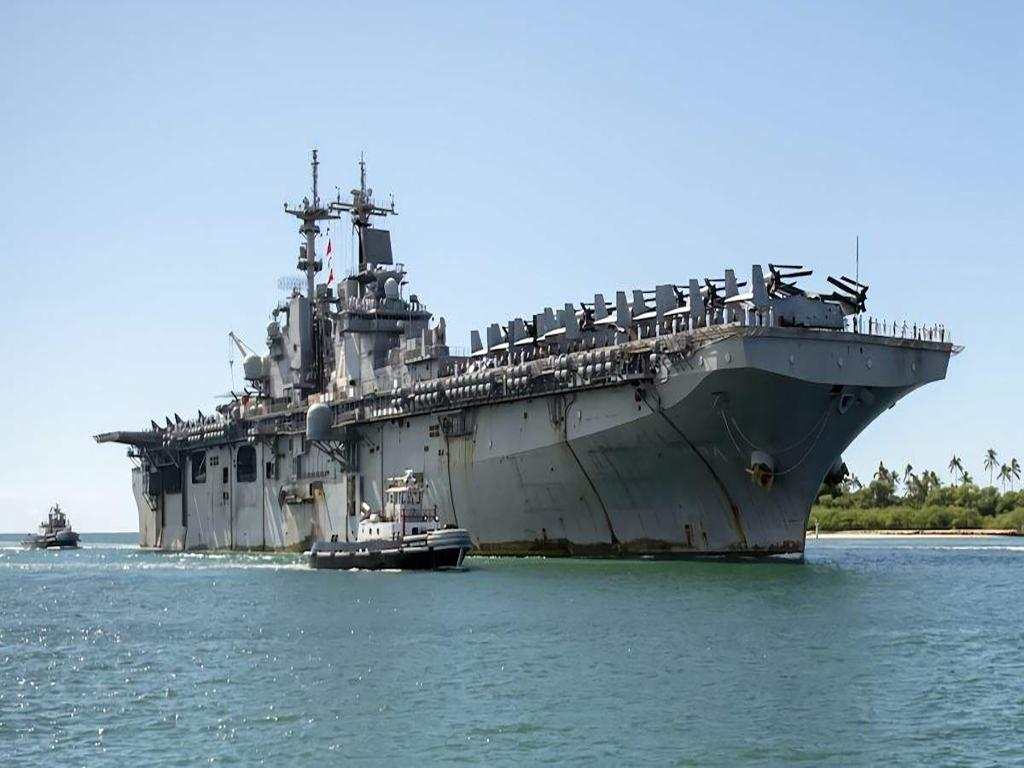Warship: (97, 152, 969, 570)
